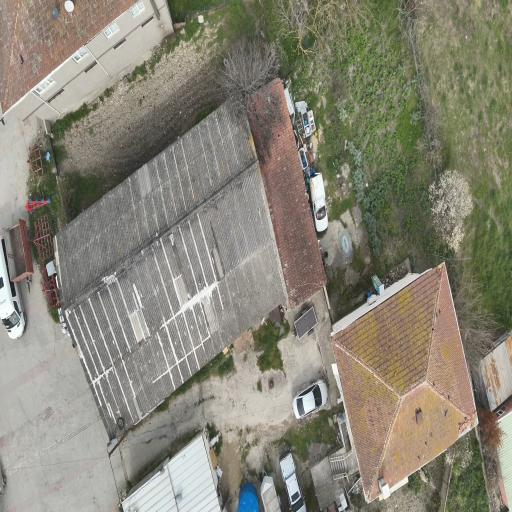bus: (0, 235, 26, 338)
car: (280, 451, 306, 511), (293, 380, 327, 419), (310, 174, 327, 232)
